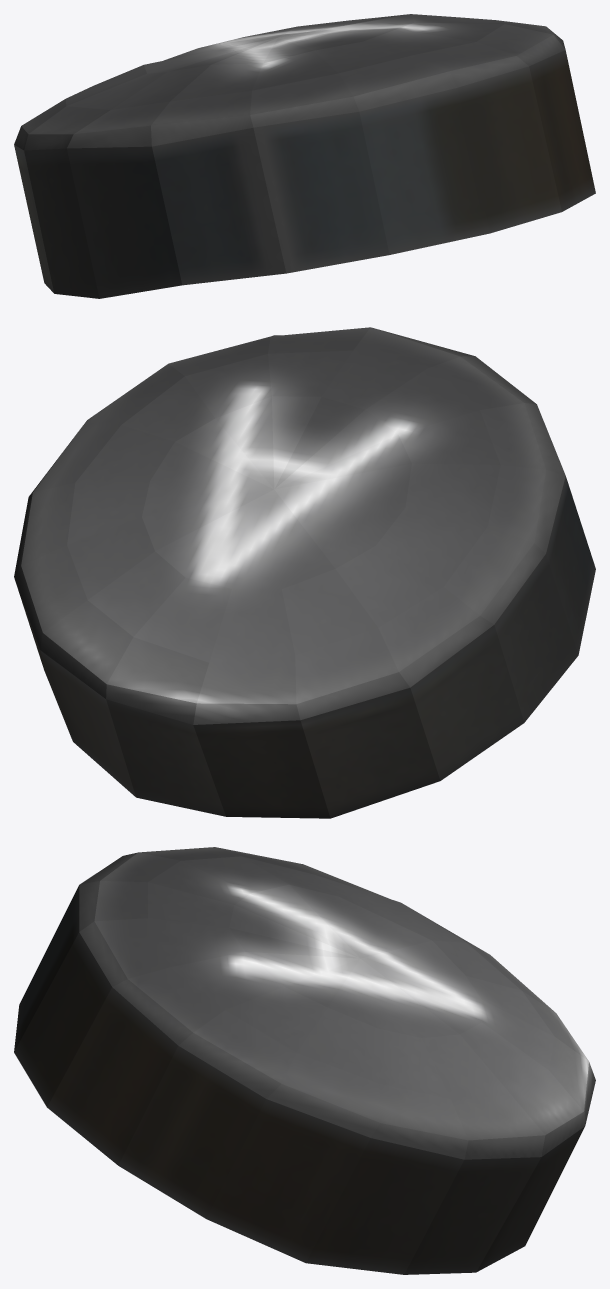
Rendered from pfd_mr_controller_right_abutton.obj.
3 views of the same model, one above another, from view 1: azimuth 30°, elevation 25°; view 2: azimuth 150°, elevation 25°; view 3: azimuth 270°, elevation 25° (orthographic).
Parts seen in each view (by area): view 1: pfd_mr_controller_right_abutton; view 2: pfd_mr_controller_right_abutton; view 3: pfd_mr_controller_right_abutton.
Part boxes in pixels (left/top/right/bottom): pfd_mr_controller_right_abutton: left=14, top=14, right=595, bottom=298; pfd_mr_controller_right_abutton: left=14, top=327, right=595, bottom=818; pfd_mr_controller_right_abutton: left=14, top=847, right=595, bottom=1274.
Size of the model in its own units: 0.0104 by 0.00654 by 0.0109.
Materials: 1 (1 with a texture image).
